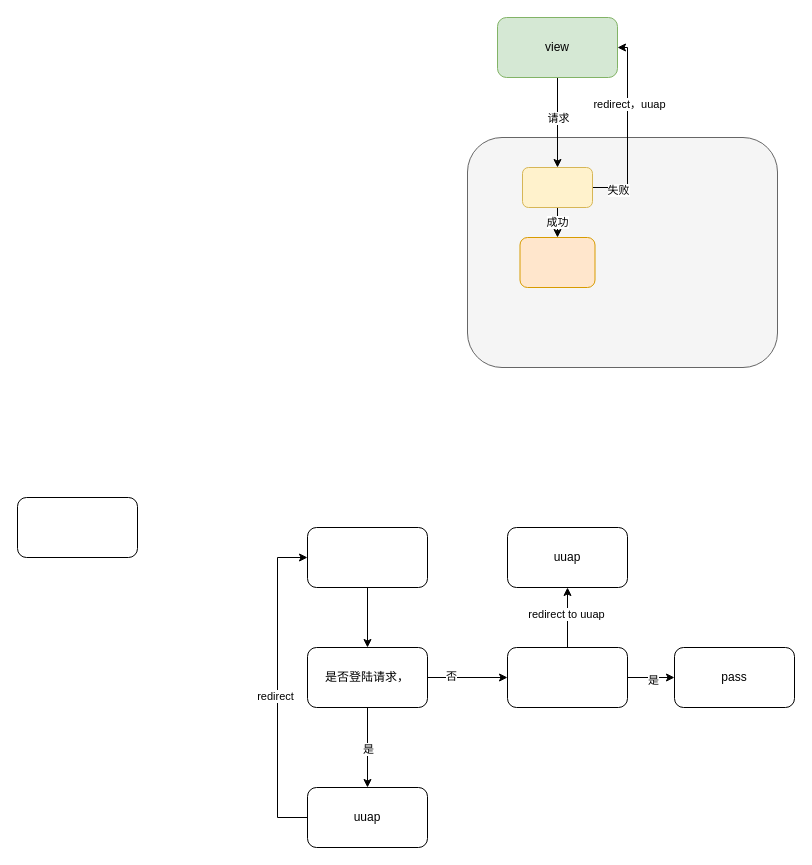
Some shapes in this 812 by 865 pixel diagram are drawn without their labels. Here are the shapes that lost their labels. From the top down, the box of each, then its label:
(522, 166, 592, 208): token校验
(306, 526, 428, 588): 前端发起请求
(506, 646, 628, 708): token校验是否成功
